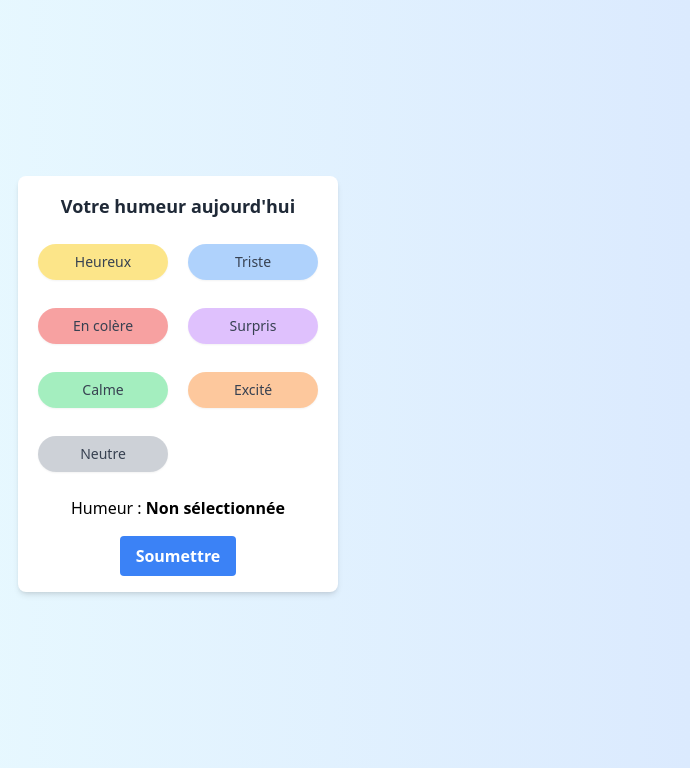
MoodSelector Component › allows mood selection and updates display message
The image size is (690, 768).
# Select the "Heureux" mood
Click the button "Heureux" at (103, 262), box [38,244,168,280]
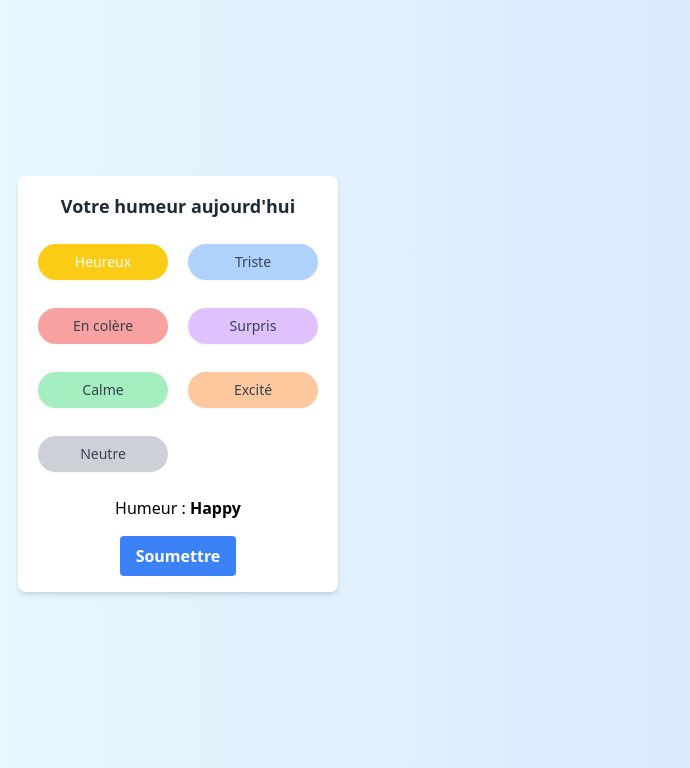
Check: the element with test id "mood-display" reads "Humeur : Happy", box [115,497,241,519]
# Select the "Triste" mood
Click the button "Triste" at (253, 262), box [188,244,318,280]
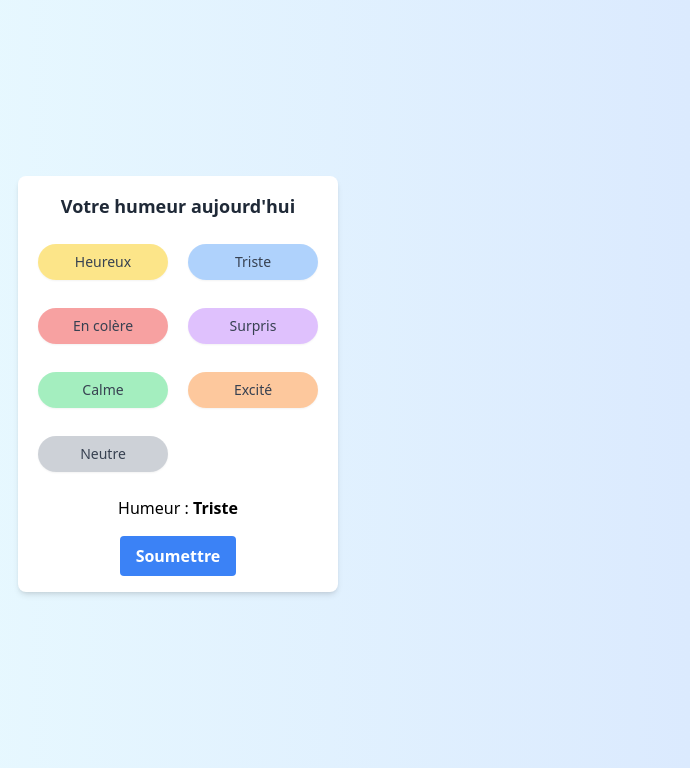
Check: the element with test id "mood-display" reads "Humeur : Triste", box [118,497,238,519]
